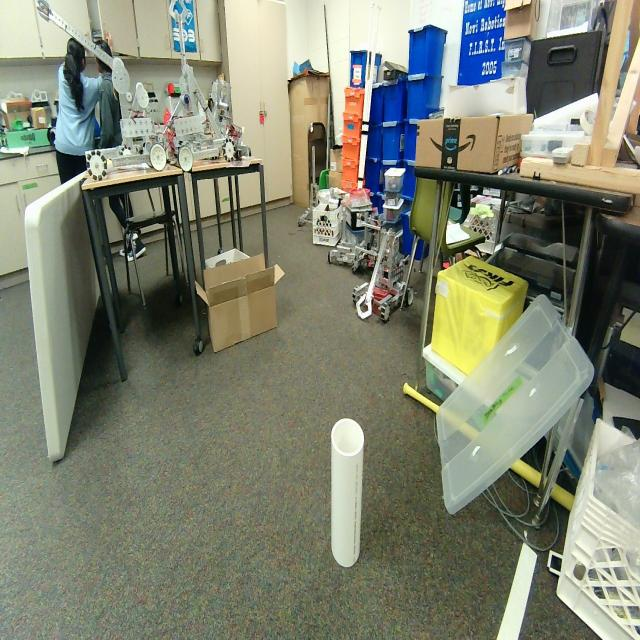coral: (328, 419, 364, 567)
